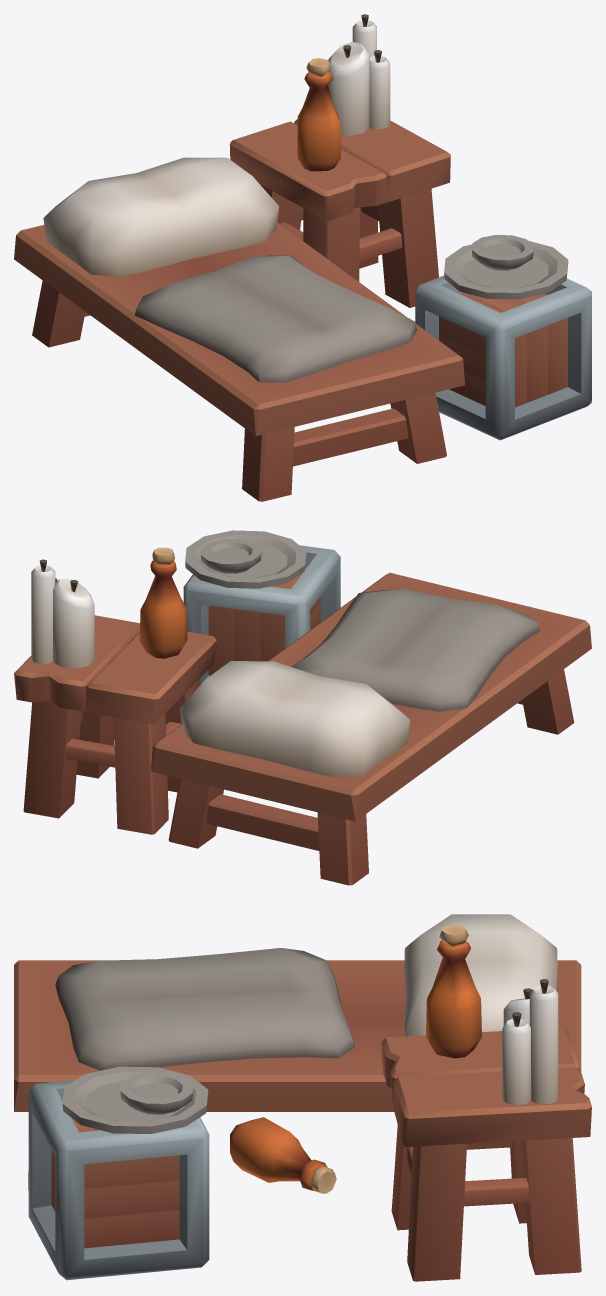
Rendered from cc0-bed-decorated-lod0.glb.
The picture shows the model from 3 angles, top to bottom: view 1: azimuth 30°, elevation 25°; view 2: azimuth 150°, elevation 25°; view 3: azimuth 270°, elevation 25°; orthographic projection. The views are drawn at different scales.
Visible parts, largest first — view 1: part_0; view 2: part_0; view 3: part_0.
Part boxes in pixels (x1,y1,x2,y2): part_0: [14, 14, 591, 501]; part_0: [14, 530, 591, 885]; part_0: [14, 914, 591, 1281].
Size of the model in its own units: 2.61 by 1.7 by 3.06.
Materials: 1 (1 with a texture image).
